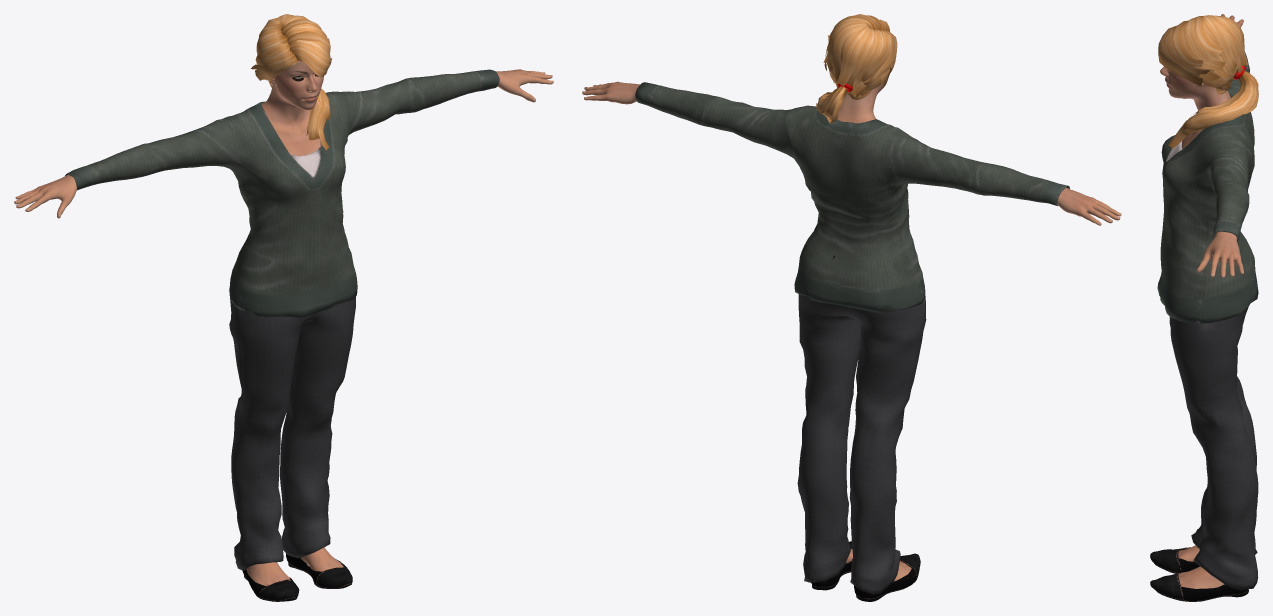
The model's file is Female-Generic-2.obj.
The picture shows the model from 3 angles, left to right: view 1: azimuth 30°, elevation 25°; view 2: azimuth 150°, elevation 25°; view 3: azimuth 270°, elevation 25°; orthographic projection.
Parts seen in each view (by area): view 1: Tops, Bottoms, Body, Hair, Shoes; view 2: Tops, Bottoms, Hair, Body, Shoes; view 3: Tops, Bottoms, Hair, Body, Shoes.
Part boxes in pixels (bbox=[...]): Tops: bbox=[65, 69, 499, 317]; Bottoms: bbox=[229, 288, 355, 570]; Body: bbox=[14, 60, 553, 585]; Hair: bbox=[251, 14, 331, 150]; Shoes: bbox=[242, 554, 352, 601]; Tops: bbox=[635, 82, 1069, 312]; Bottoms: bbox=[797, 255, 926, 594]; Hair: bbox=[816, 14, 897, 123]; Body: bbox=[582, 78, 1121, 581]; Shoes: bbox=[811, 541, 920, 601]; Tops: bbox=[1157, 51, 1258, 323]; Bottoms: bbox=[1169, 249, 1258, 589]; Hair: bbox=[1158, 15, 1258, 148]; Body: bbox=[1160, 14, 1243, 588]; Shoes: bbox=[1150, 547, 1248, 601].
Size of the model in its own units: 179 by 180 by 31.41.
1 material, 1 textured.
